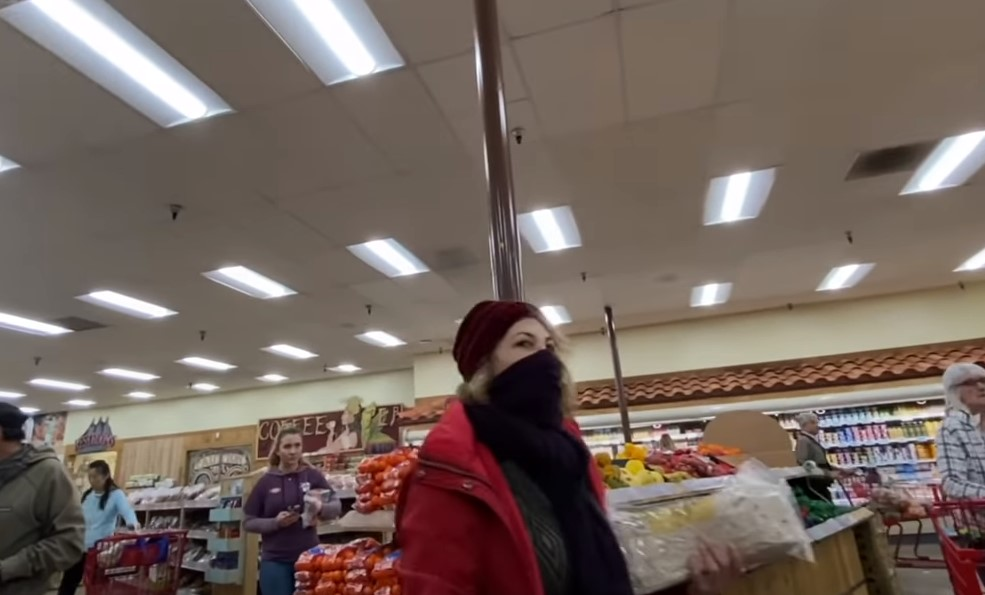face_no_mask: (277, 428, 307, 467), (84, 458, 112, 494), (801, 408, 822, 436)
